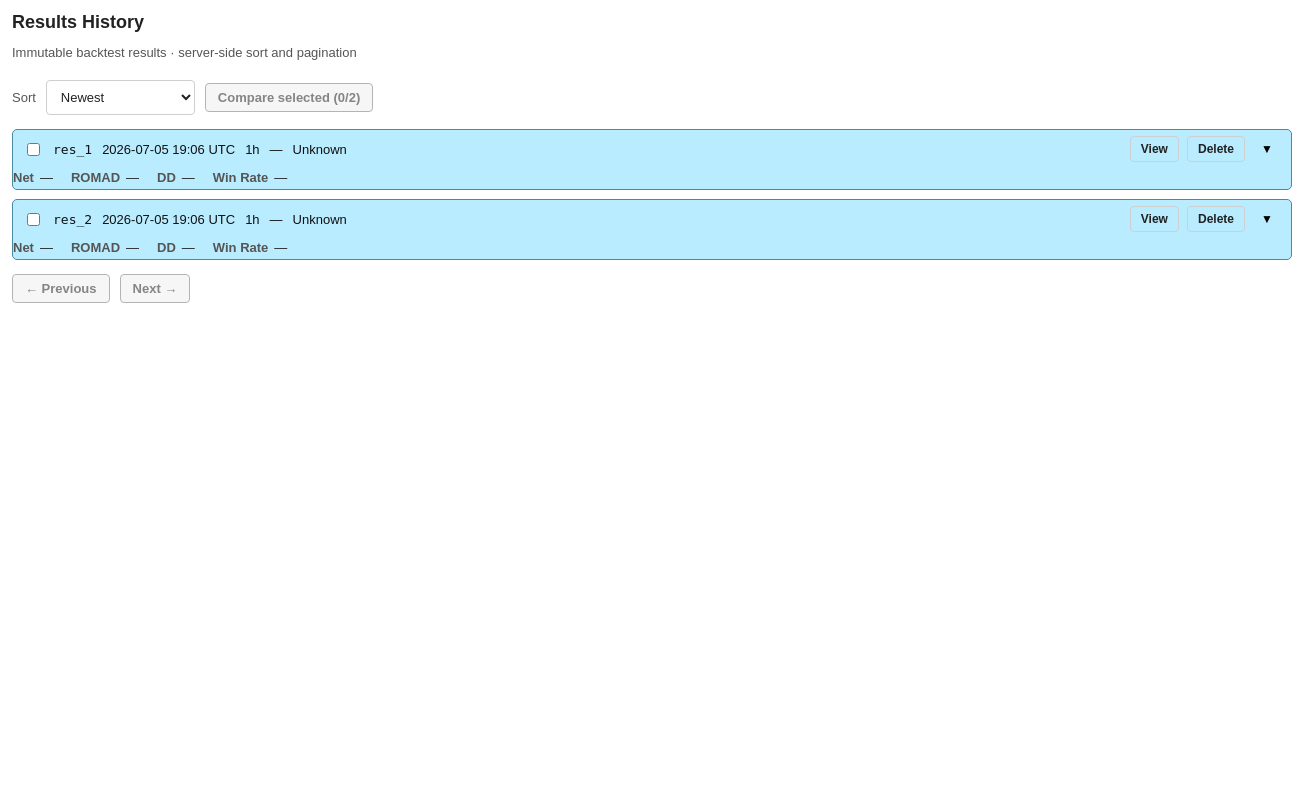
Test: Results History compare & soft-delete › compares two selected results and renders the server context diff verbatim
Expected: the text "res_1" is shown, x1=53 y1=142 x2=92 y2=156
Expected: the button "Compare selected (0/2)" is disabled, x1=205 y1=83 x2=373 y2=112
Click the checkbox named "Select res_1 for compare".
click(34, 149)  # box x1=27 y1=142 x2=40 y2=156
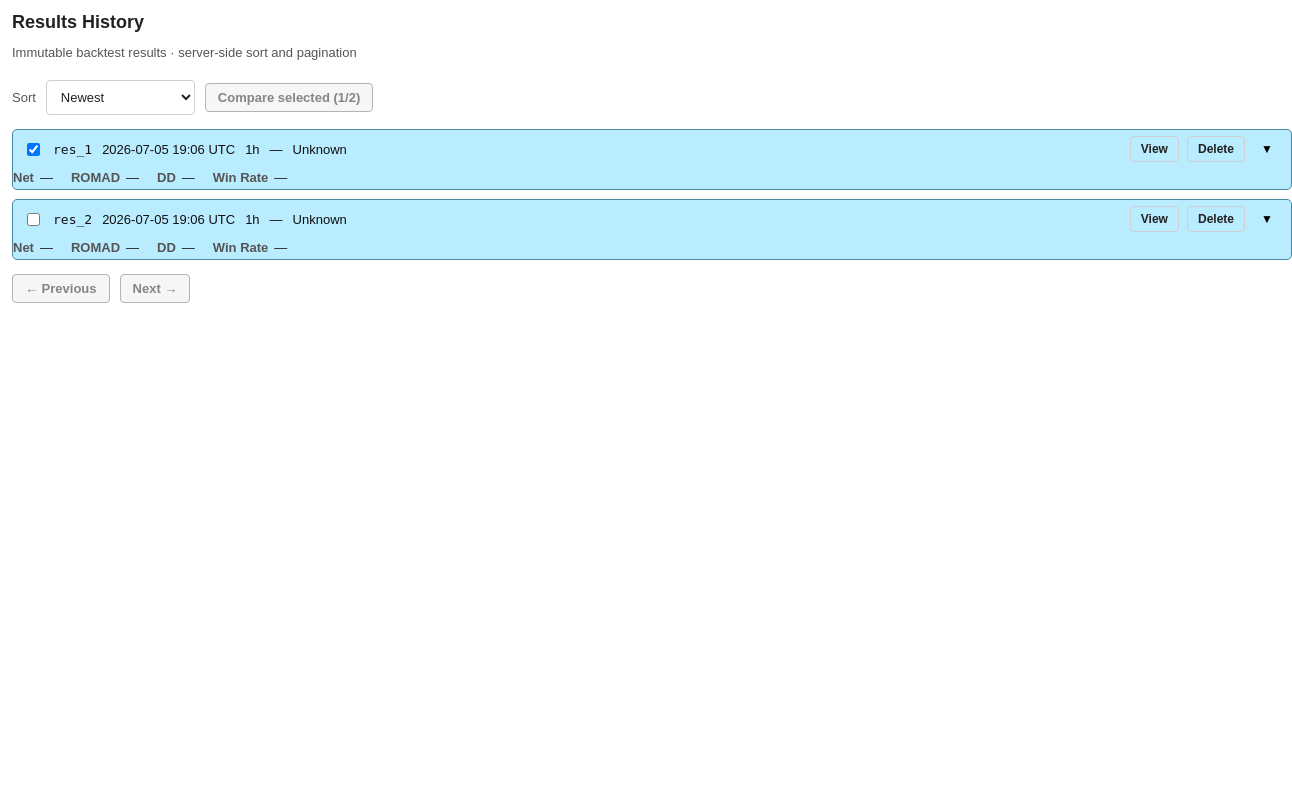
Click the checkbox named "Select res_2 for compare".
click(34, 219)  # box x1=27 y1=212 x2=40 y2=226
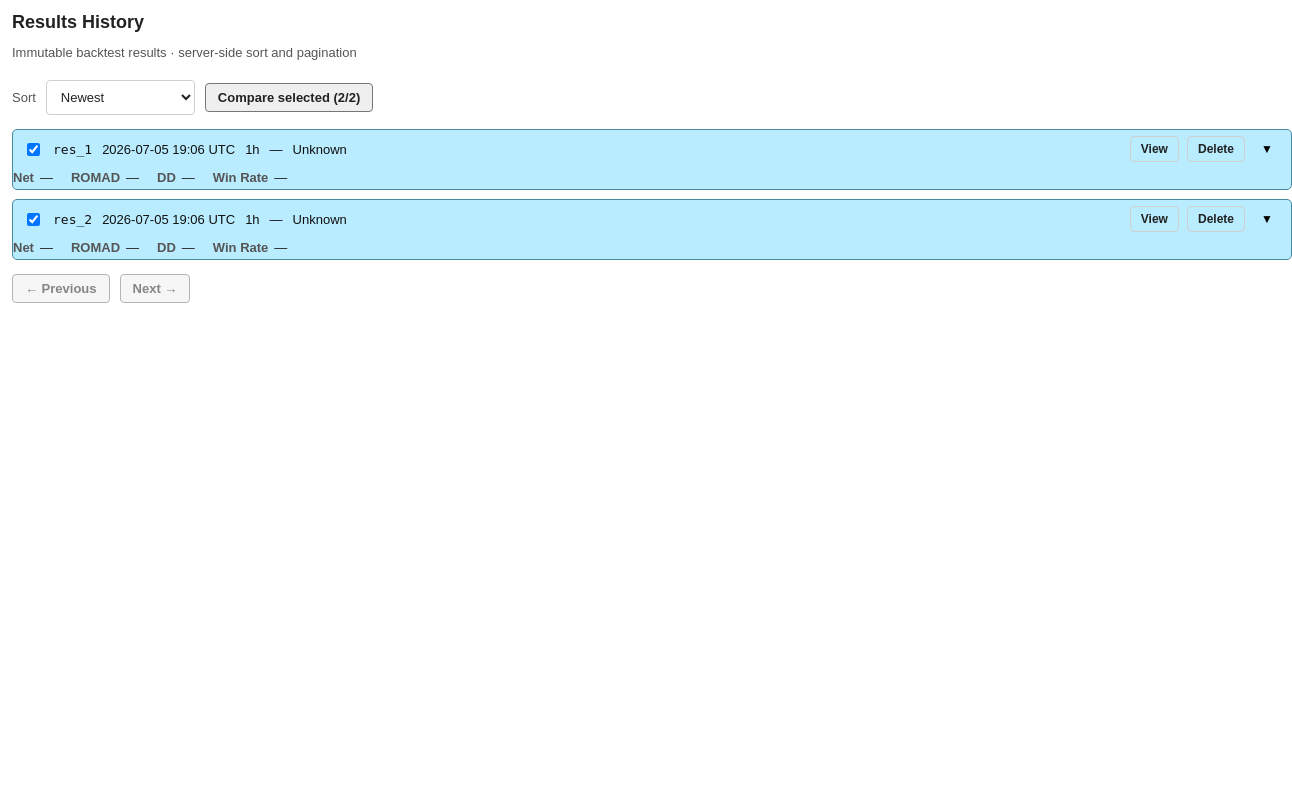
Click the button "Compare selected (2/2)".
click(289, 98)  # box x1=205 y1=83 x2=373 y2=112
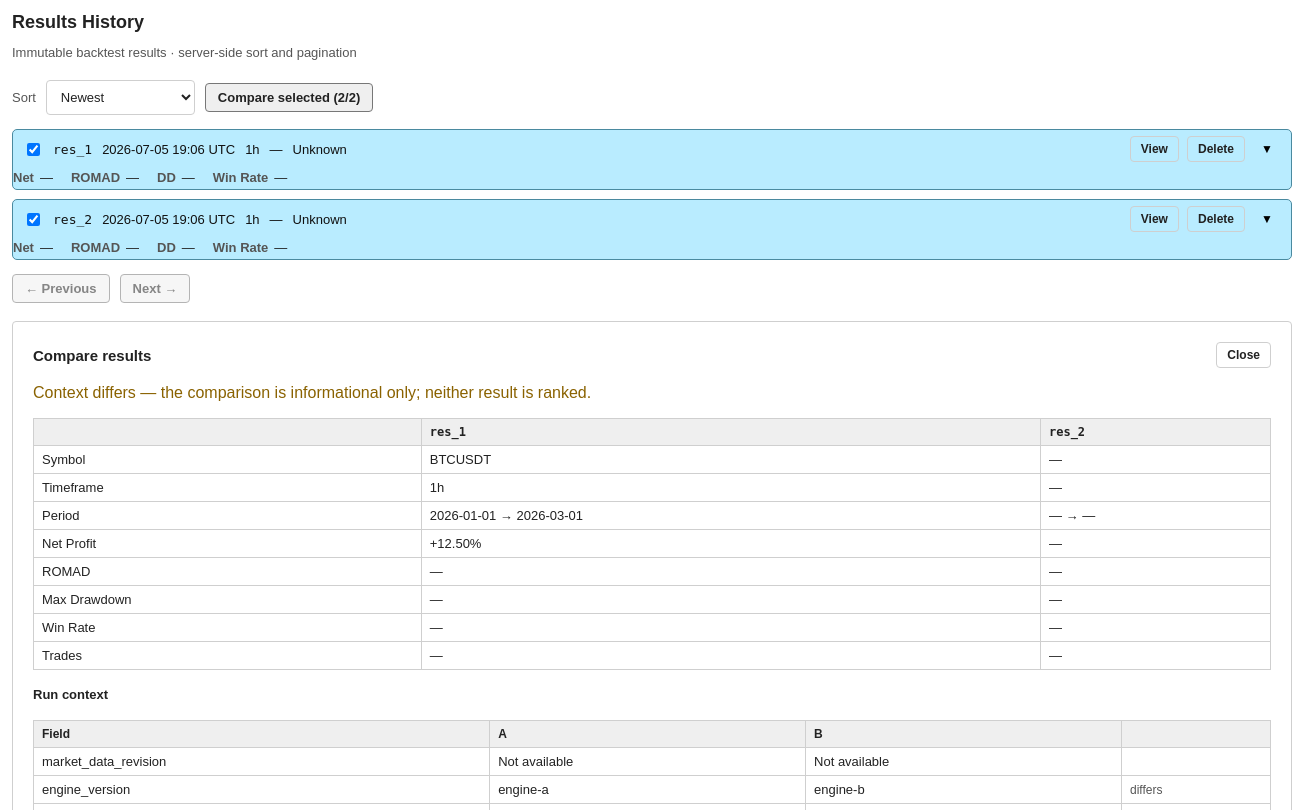
Result: the text "informational only; neither result is ranked" is shown at x1=33 y1=384 x2=591 y2=401
Result: the text "engine-b" is shown at x1=806 y1=775 x2=1121 y2=803
Result: the text "differs" is shown 2 times
